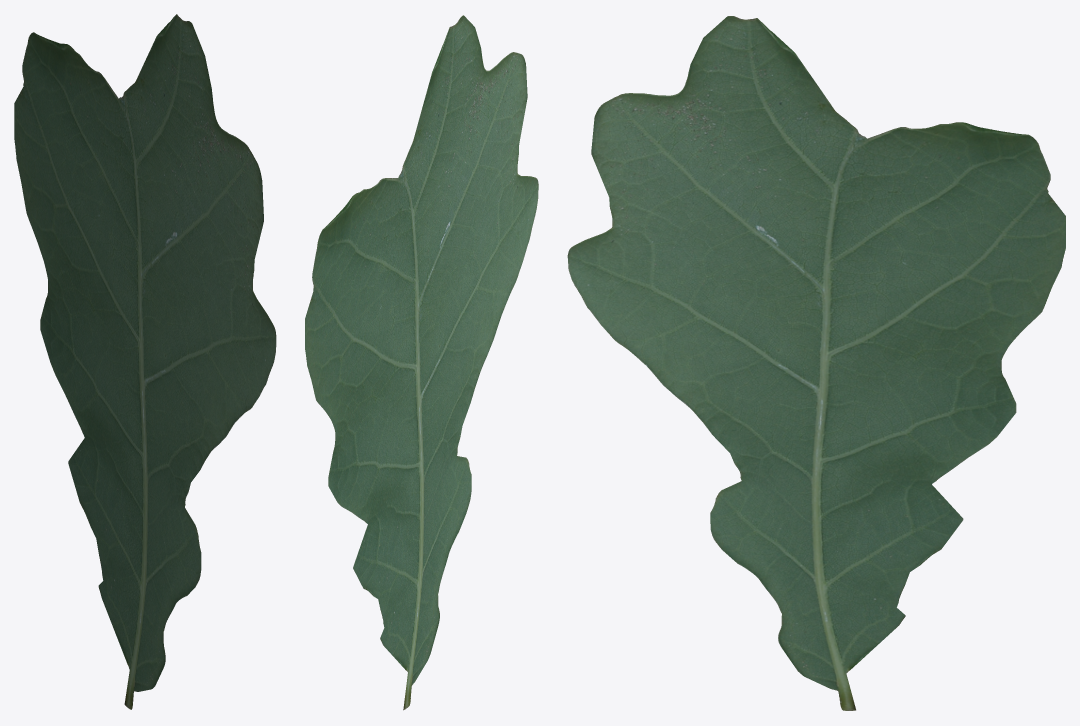
Rendered from leaf2.obj.
The picture shows the model from 3 angles, left to right: view 1: azimuth 30°, elevation 25°; view 2: azimuth 150°, elevation 25°; view 3: azimuth 270°, elevation 25°; orthographic projection. The views are drawn at different scales.
Parts seen in each view (by area): view 1: Plane; view 2: Plane; view 3: Plane.
Part boxes in pixels (x1,y1,x2,y2): Plane: (14,14,276,709); Plane: (305,15,538,710); Plane: (567,16,1065,710).
Size of the model in its own units: 0 by 0.4452 by 0.2884.
Materials: 1 (1 with a texture image).
